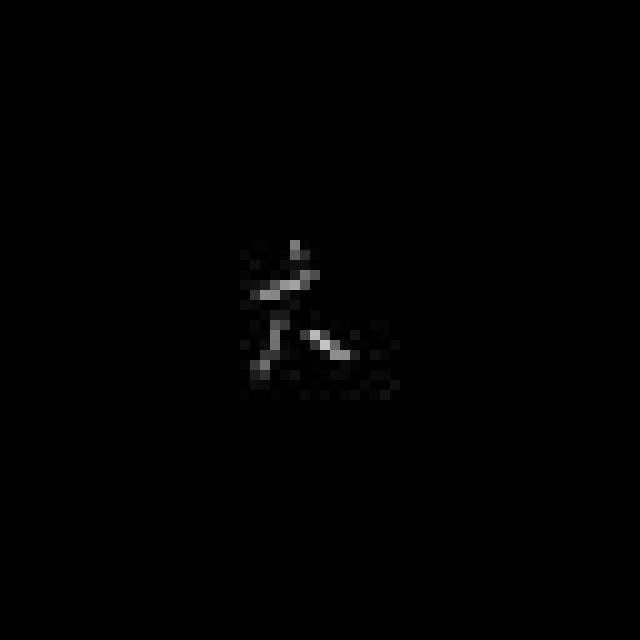6 -six-: (241, 230, 363, 381)
